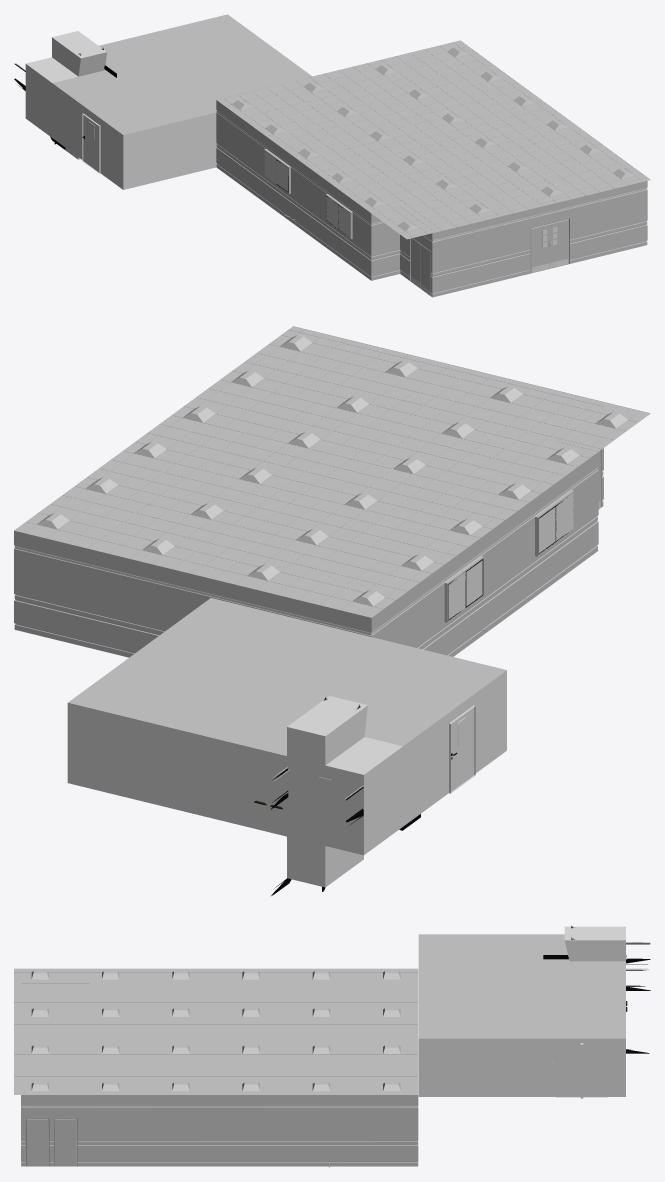
The model's file is academy3.fbx.
3 renders of one model, top to bottom at view 1: azimuth 30°, elevation 25°; view 2: azimuth 150°, elevation 25°; view 3: azimuth 270°, elevation 25°, orthographic. The views are drawn at different scales.
Visible parts, largest first — view 1: Outer, Cube, Outer.007, Outer.006, Cube.003; view 2: Outer, Cube, Cube.003; view 3: Outer, Cube, Cube.004, a7be5292-e5e6-4c67-a1bd-c7f6fef46b41.
Part boxes in pixels (bbox=[...]): Outer: bbox=[216, 40, 650, 297]; Cube: bbox=[25, 14, 312, 189]; Outer.007: bbox=[550, 220, 568, 268]; Outer.006: bbox=[531, 224, 549, 273]; Cube.003: bbox=[83, 115, 99, 172]; Outer: bbox=[14, 326, 650, 657]; Cube: bbox=[67, 598, 506, 887]; Cube.003: bbox=[451, 707, 474, 791]; Outer: bbox=[14, 968, 418, 1166]; Cube: bbox=[418, 926, 625, 1096]; Cube.004: bbox=[552, 1043, 607, 1098]; a7be5292-e5e6-4c67-a1bd-c7f6fef46b41: bbox=[543, 925, 650, 1053].
Bounding box in the file's own units: 2471 × 730 × 3624.
